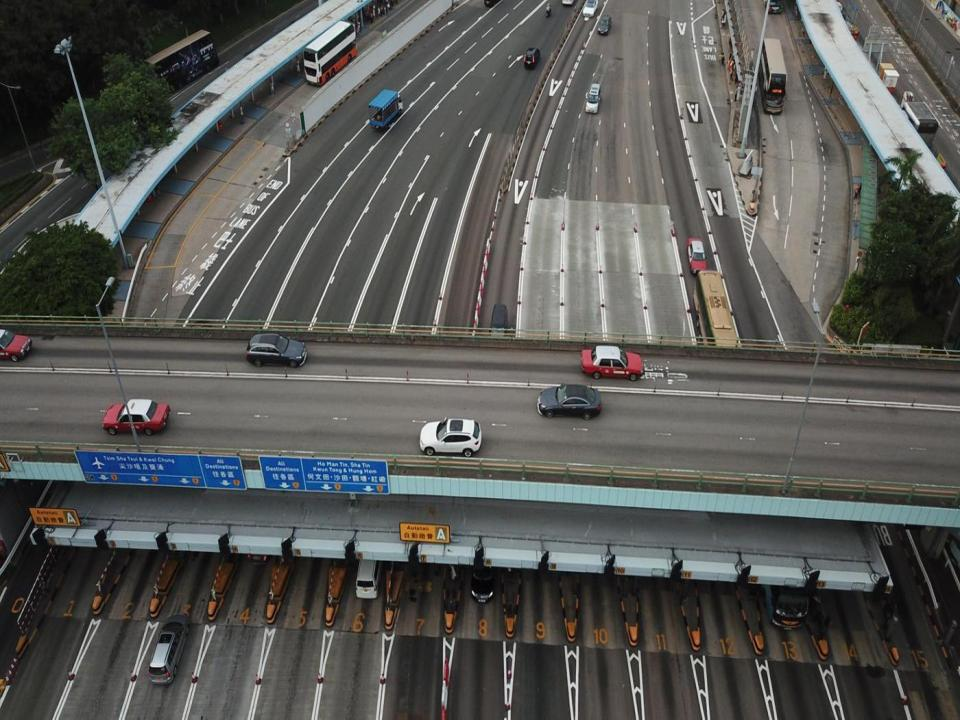bus: (759, 516, 810, 629), (140, 29, 218, 97), (693, 269, 742, 372), (303, 20, 357, 87), (757, 38, 787, 114)
car: (102, 397, 170, 435), (419, 417, 481, 457), (536, 383, 601, 419), (580, 344, 643, 381), (247, 496, 277, 562), (470, 528, 495, 602), (0, 329, 32, 362), (686, 238, 708, 276), (597, 16, 612, 34), (582, 0, 596, 16)
truck: (368, 89, 404, 129)
van: (147, 614, 190, 683), (246, 334, 306, 368), (356, 539, 384, 597), (489, 303, 508, 354), (586, 83, 600, 113), (524, 48, 540, 66)
